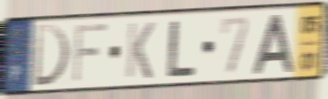7: (219, 14, 250, 77)
A: (250, 13, 295, 76)
D: (31, 23, 72, 89)
F: (70, 21, 110, 87)
K: (124, 21, 157, 81)
L: (165, 19, 198, 79)
